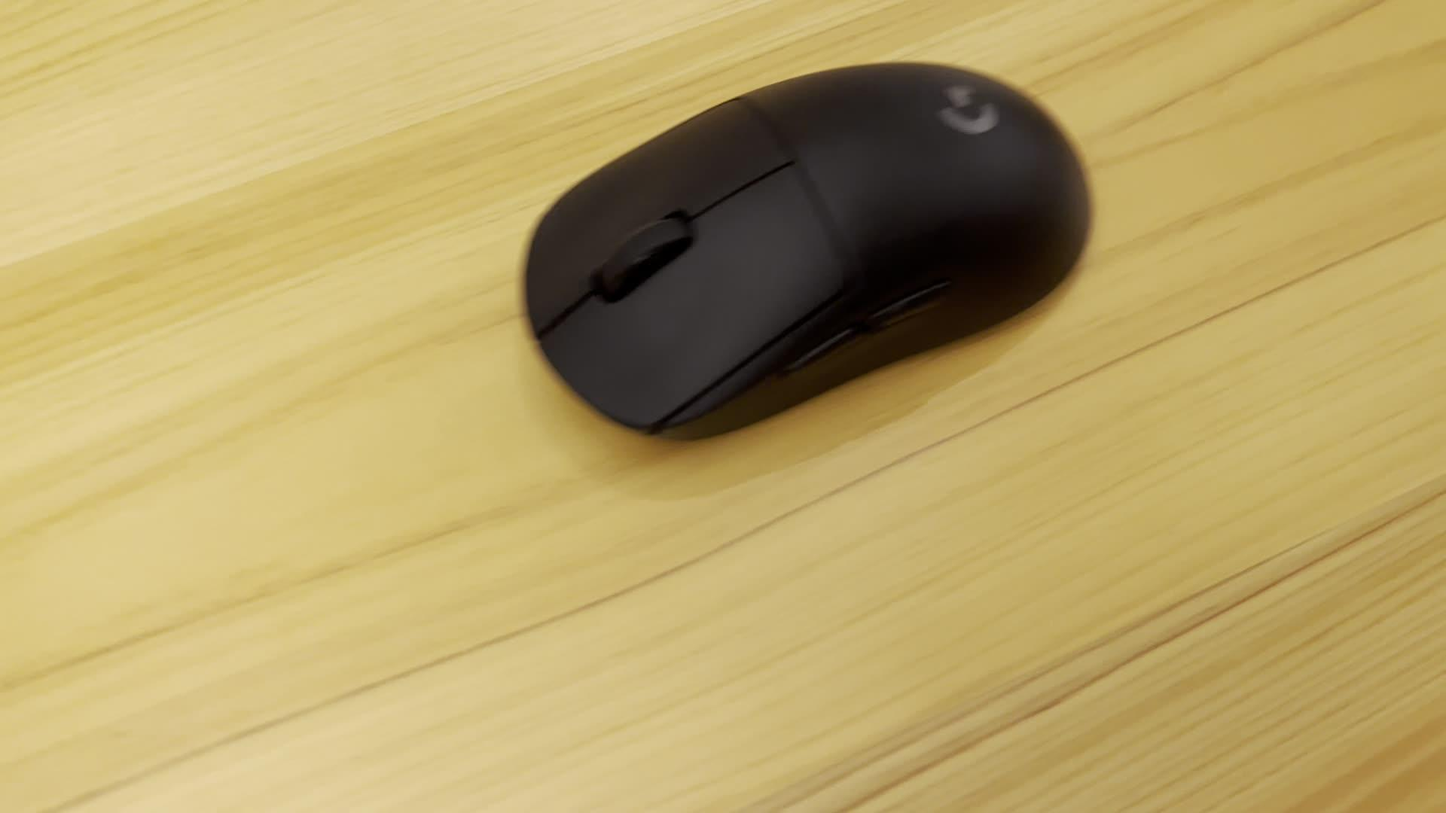logicool: (514, 53, 1105, 455)
